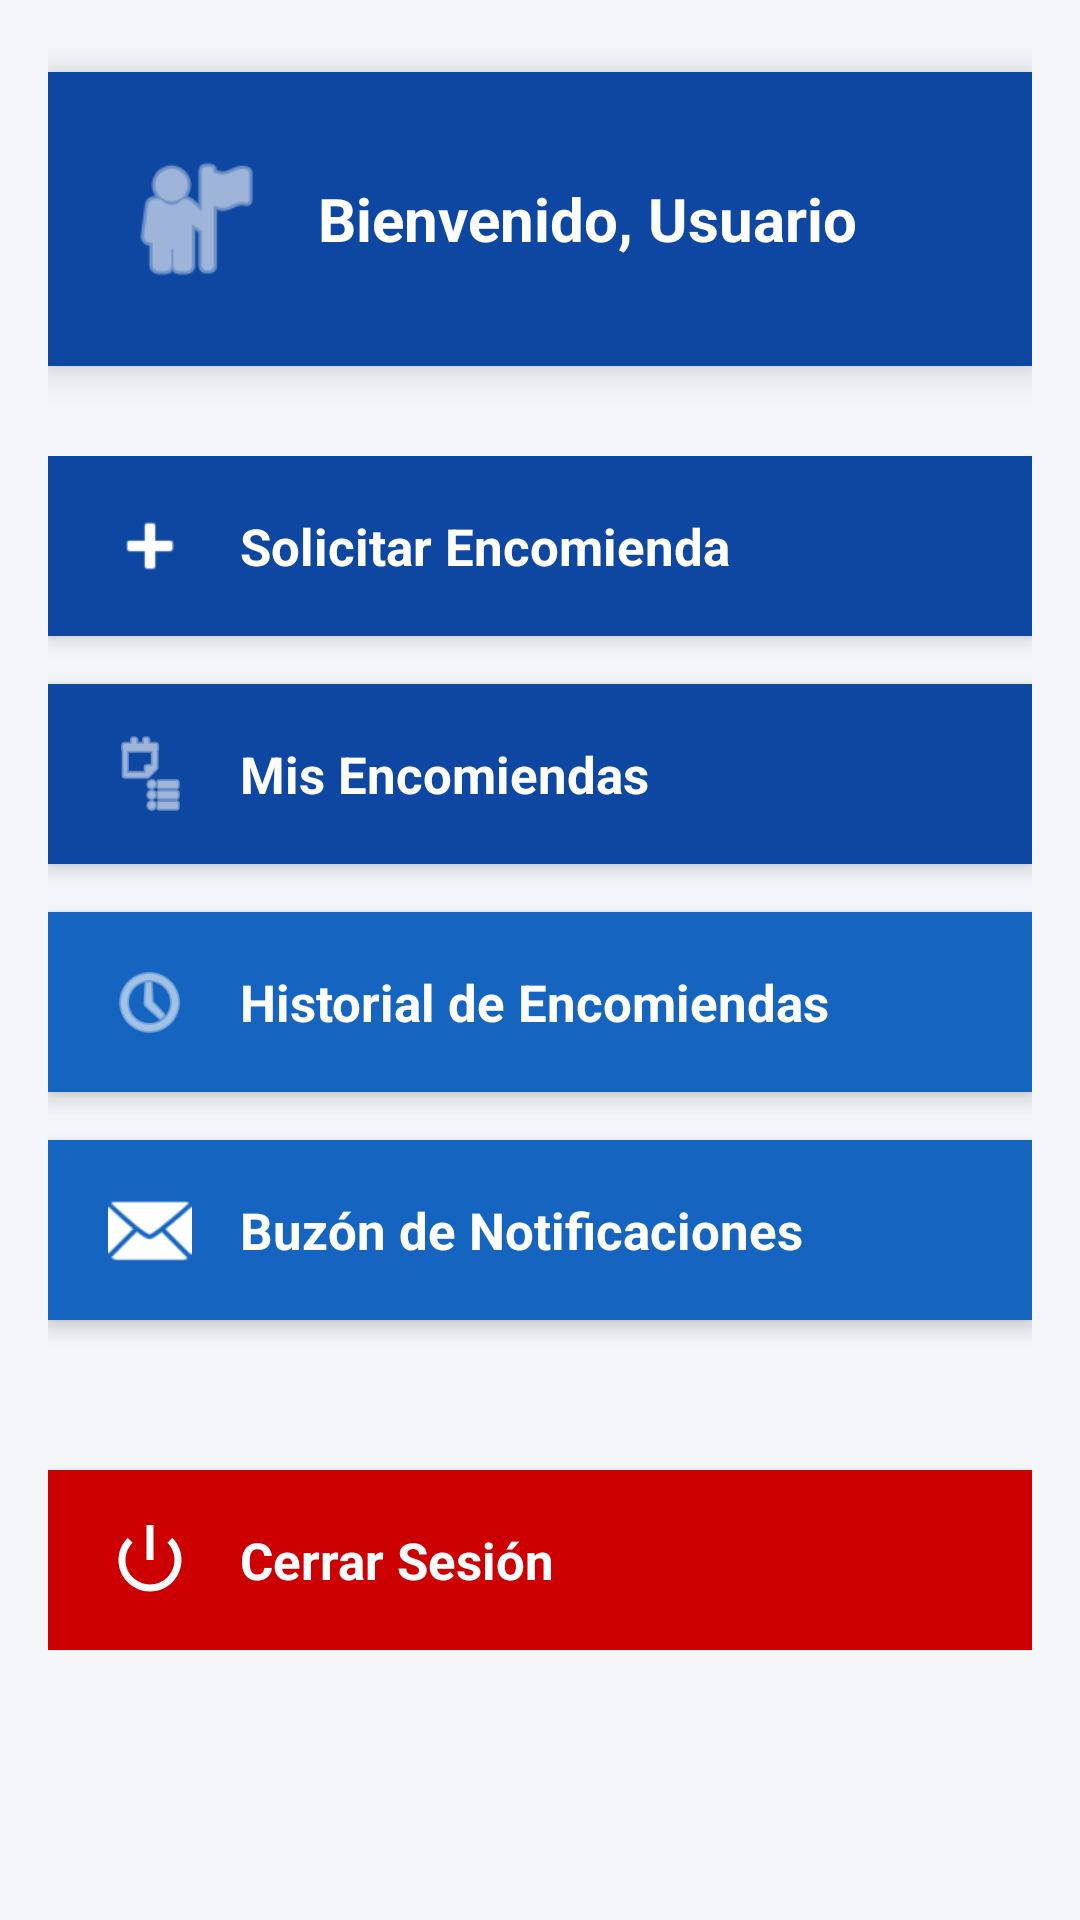

Point at icon controls on the screen. Image size 1080x1920, points as (x,y).
add: (150,546)
agenda: (150,773)
email: (150,1231)
lock power off: (150,1558)
myplaces: (196,219)
recent history: (149,1002)
